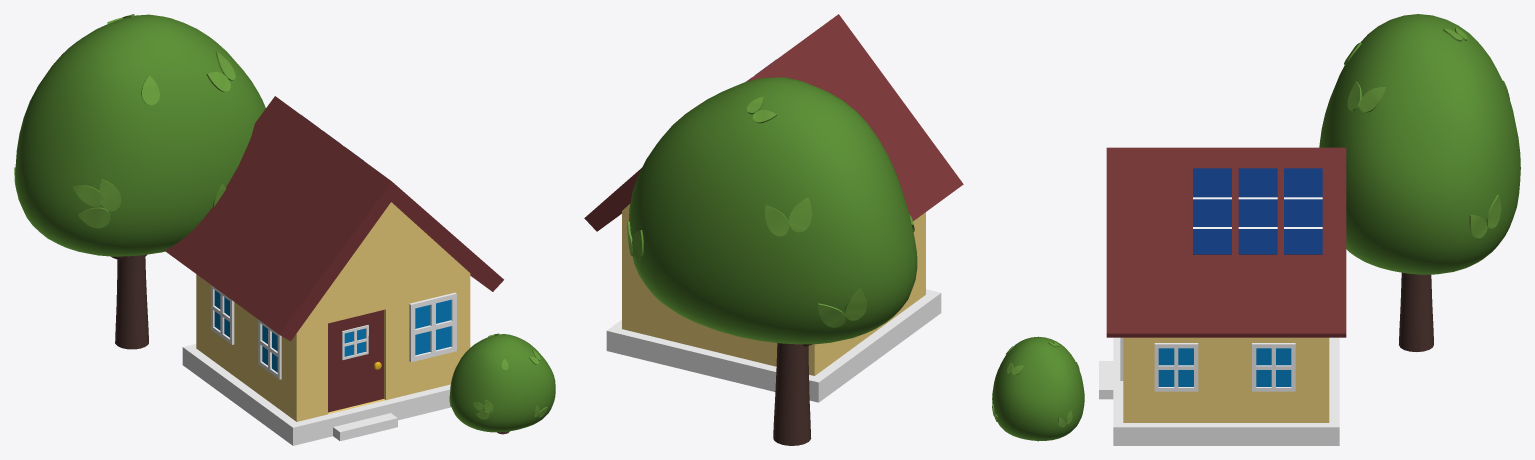
File: house_with_garden.fbx
3 views of the same model, side by side, from view 1: azimuth 30°, elevation 25°; view 2: azimuth 150°, elevation 25°; view 3: azimuth 270°, elevation 25° (orthographic). The views are drawn at different scales.
Visible parts, largest first — view 1: Cube.475; view 2: Cube.475; view 3: Cube.475.
Boxes of the visible parts, x1=… form: Cube.475: x1=14, y1=14, x2=555, y2=445; Cube.475: x1=584, y1=14, x2=963, y2=445; Cube.475: x1=992, y1=14, x2=1520, y2=445.
Bounding box in the file's own units: 229 × 206 × 302.
1 material, 1 textured.
